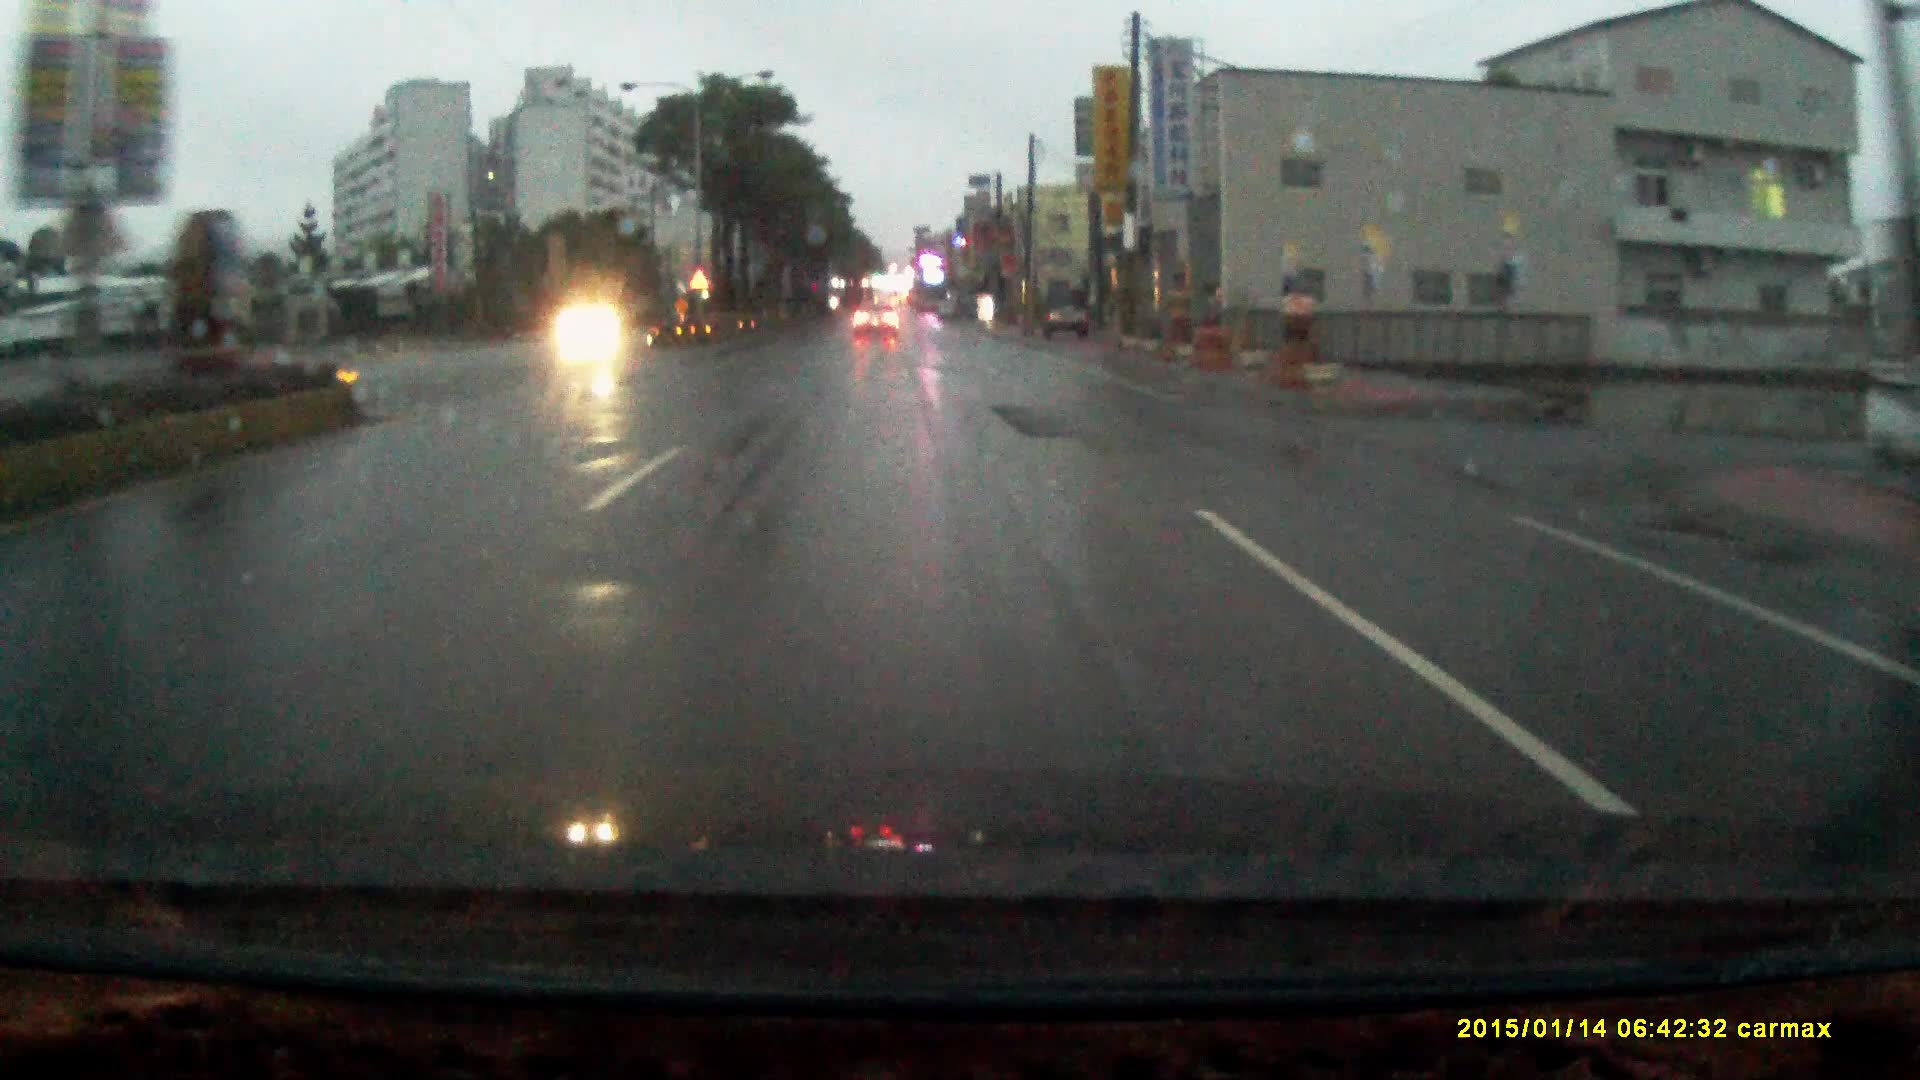vehicle: (1044, 287, 1095, 342), (851, 302, 899, 338)
